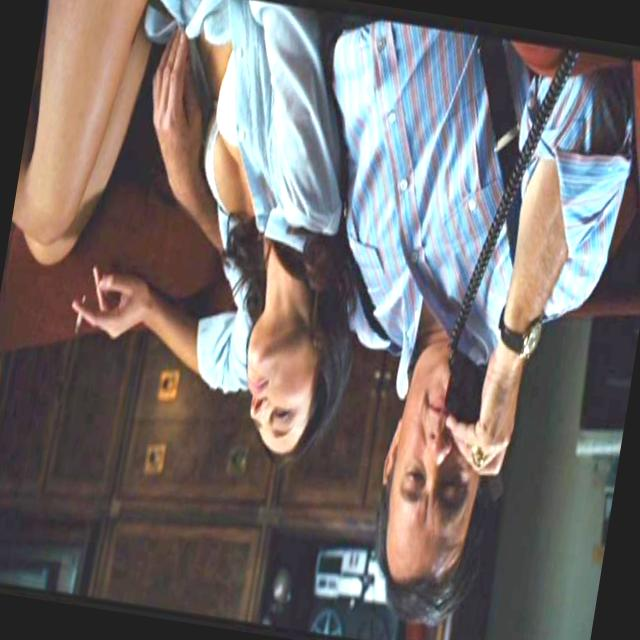cigarette: (70, 298, 89, 336)
